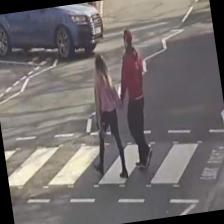person: (78, 50, 132, 182), (112, 27, 158, 170)
